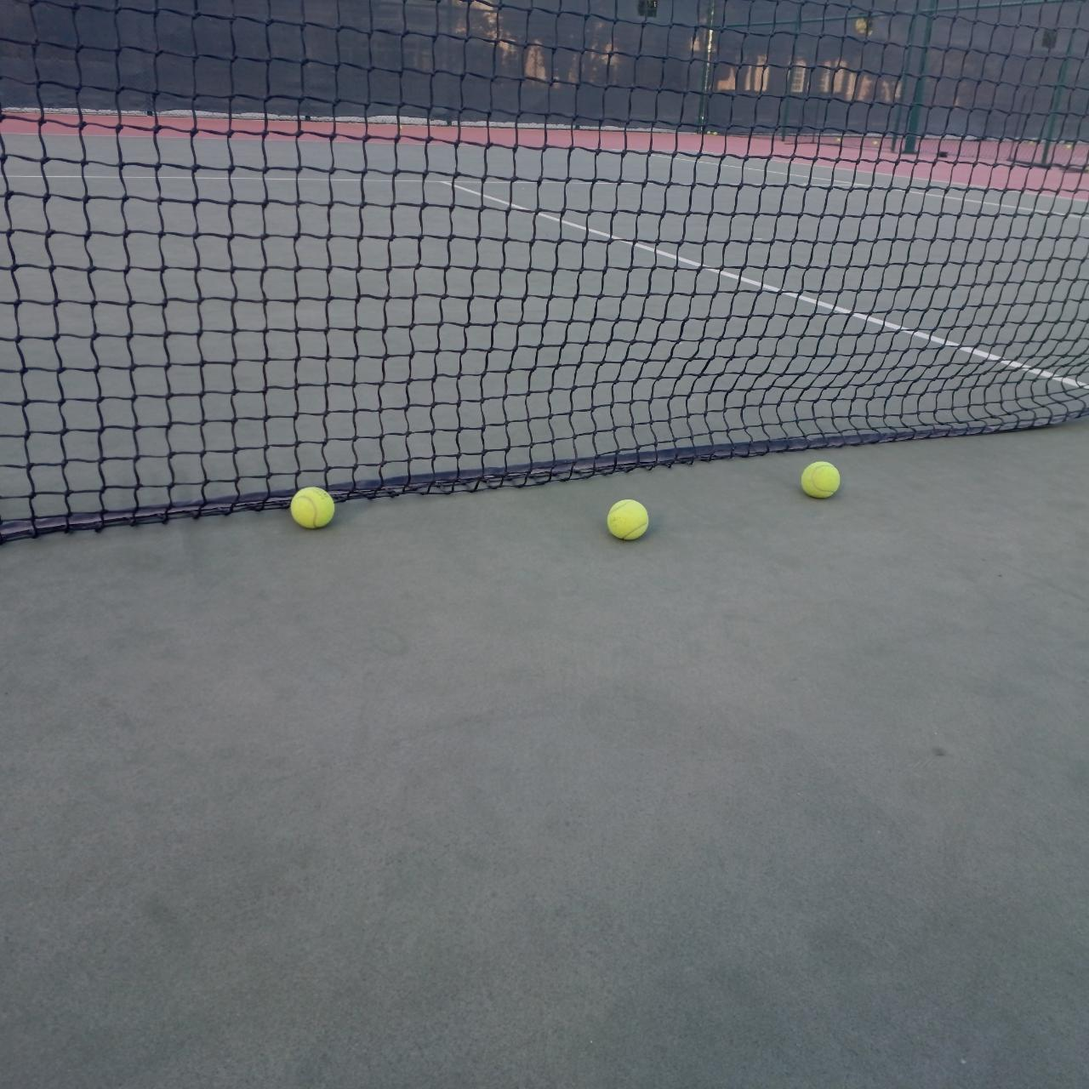tennis-ball: (289, 483, 338, 529), (606, 496, 652, 541), (800, 458, 843, 499)
